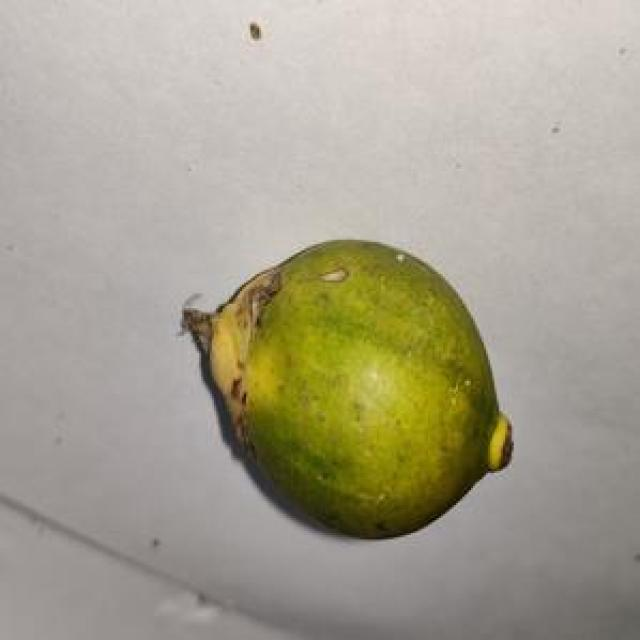damaged: (198, 238, 529, 542)
